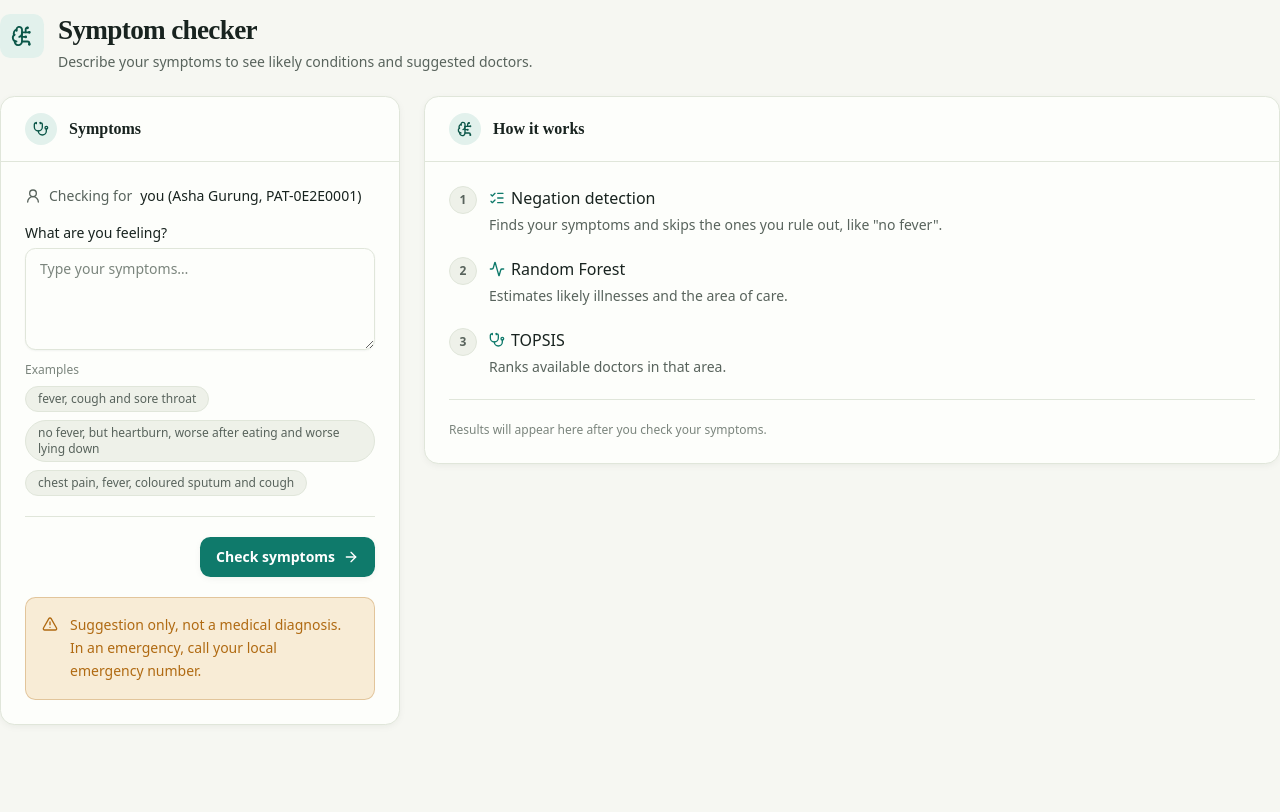
Test: SymptomCheckerPage › skipping the follow-up questions shows "not enough information" and General Medicine, not a keyword guess
Step 1. Click the text box labelled "What are you feeling?" → [200, 299], box [25, 248, 375, 350]
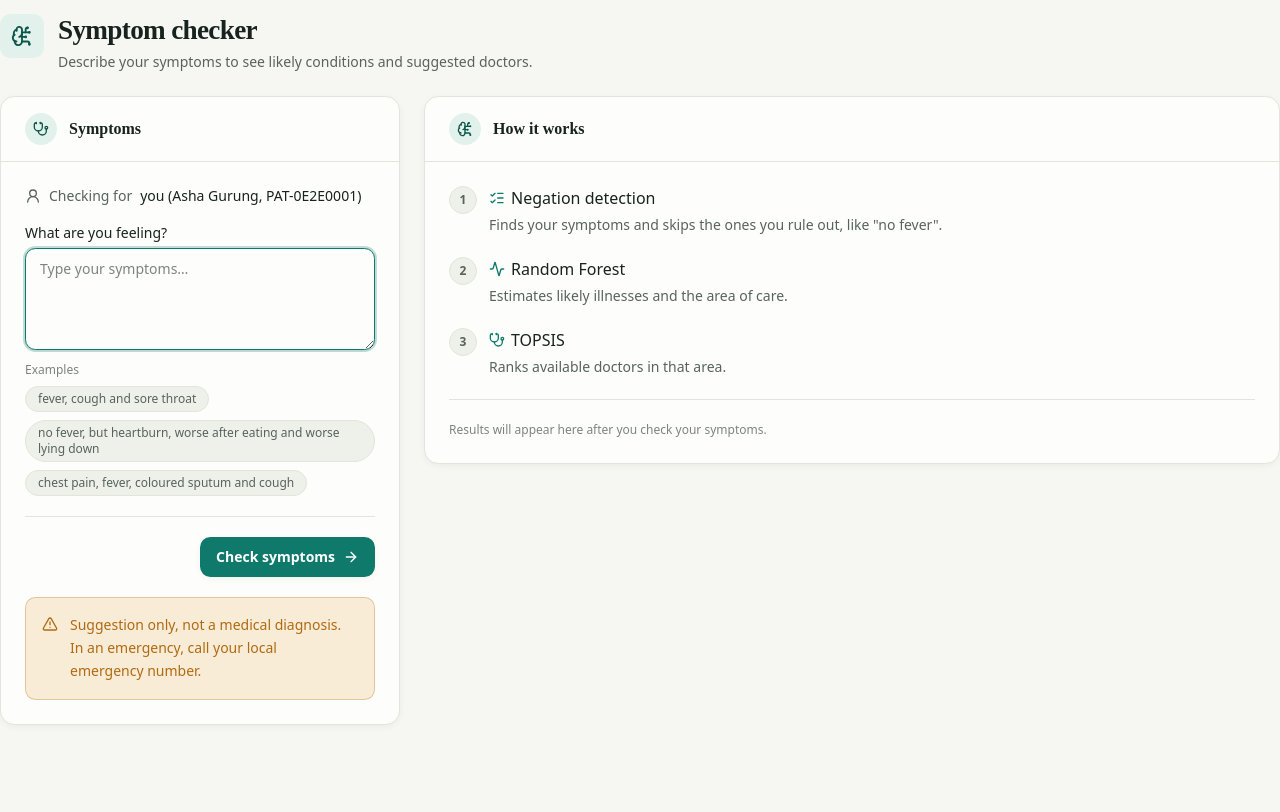
Step 2. Type keys "rash, swelling, itching"
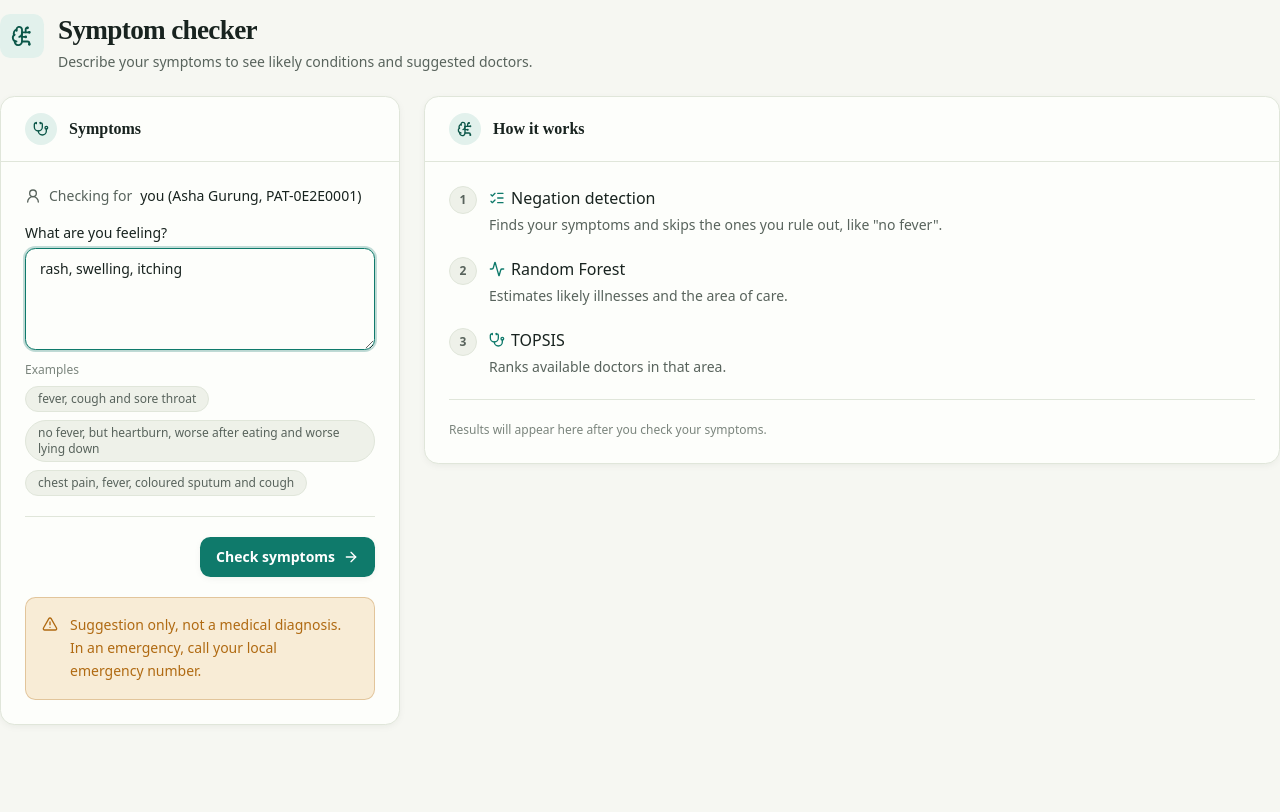
Step 3. Click the button "Check symptoms" → [288, 557], box [200, 537, 375, 577]
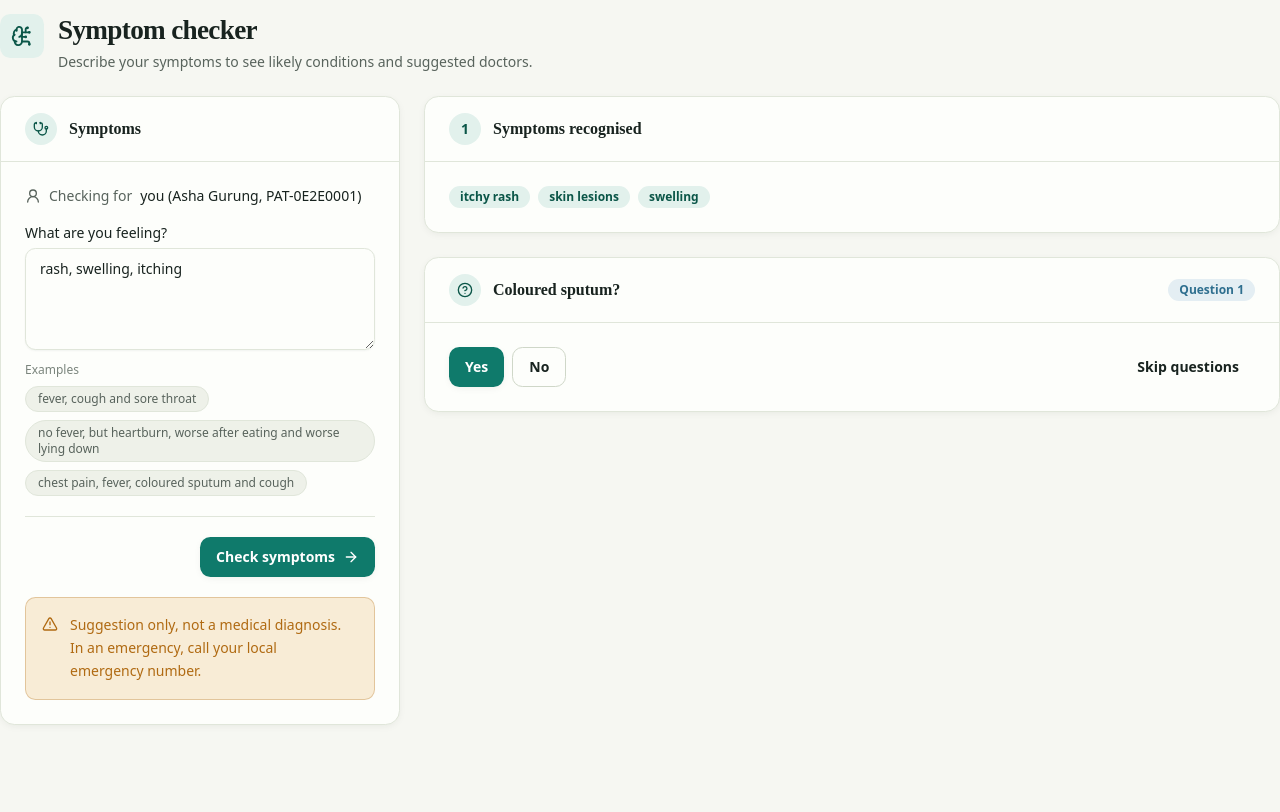
Step 4. Click the button "Skip questions" → [1188, 367], box [1121, 347, 1255, 387]
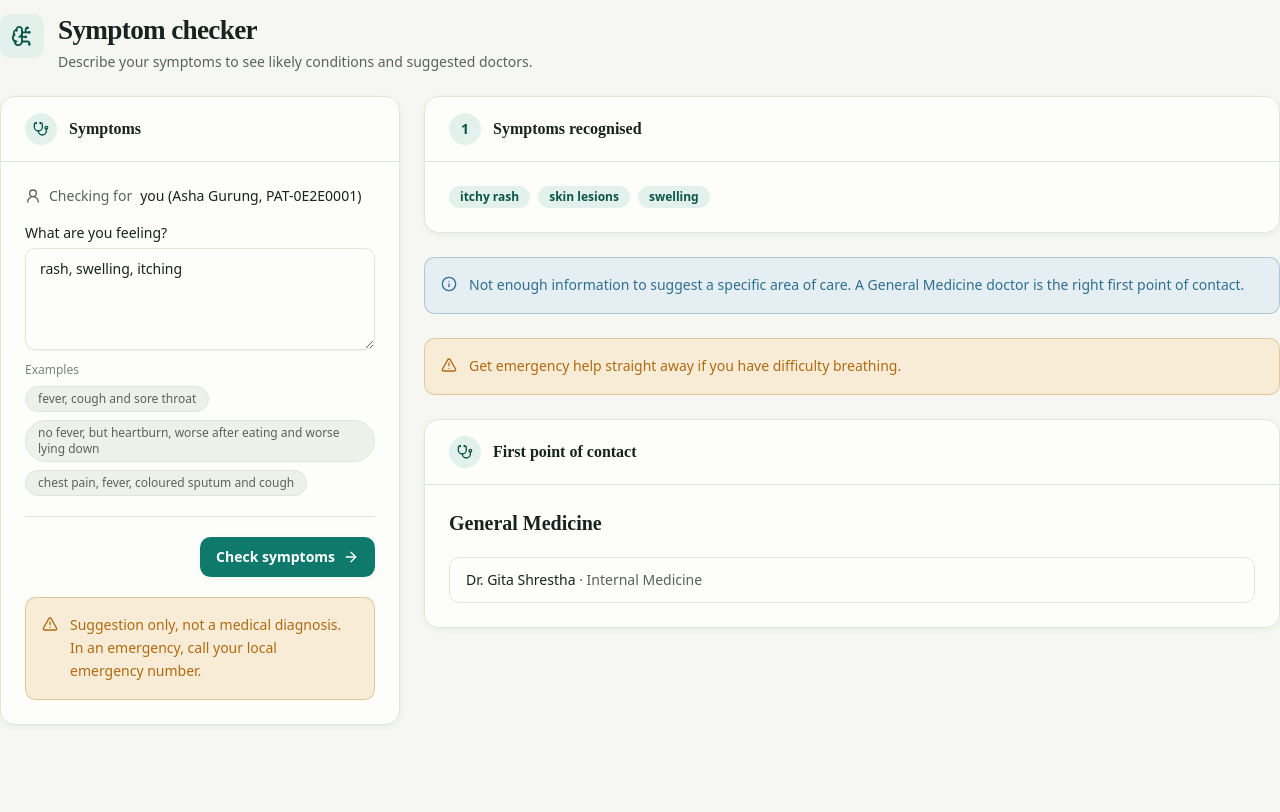
Expected: the message shows "Not enough information", [469, 275, 1244, 294]
Expected: the text "General Medicine" is shown, [449, 512, 602, 534]
Expected: the text "Dr. Gita Shrestha · Internal Medicine" is shown, [466, 570, 702, 590]
